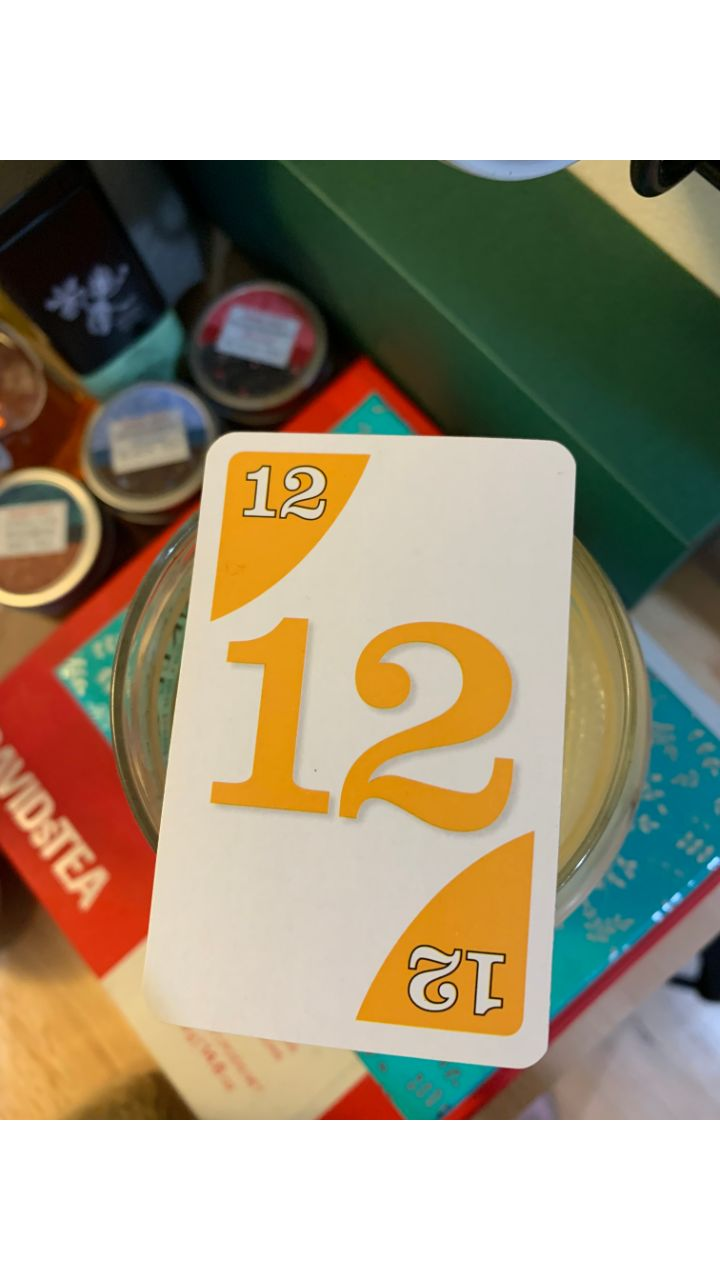twelve: (138, 430, 578, 1069)
